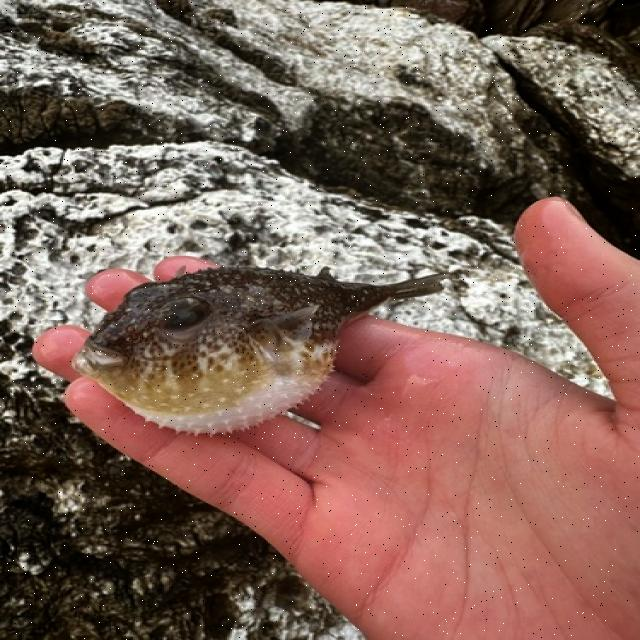Balik: (74, 268, 445, 433)
